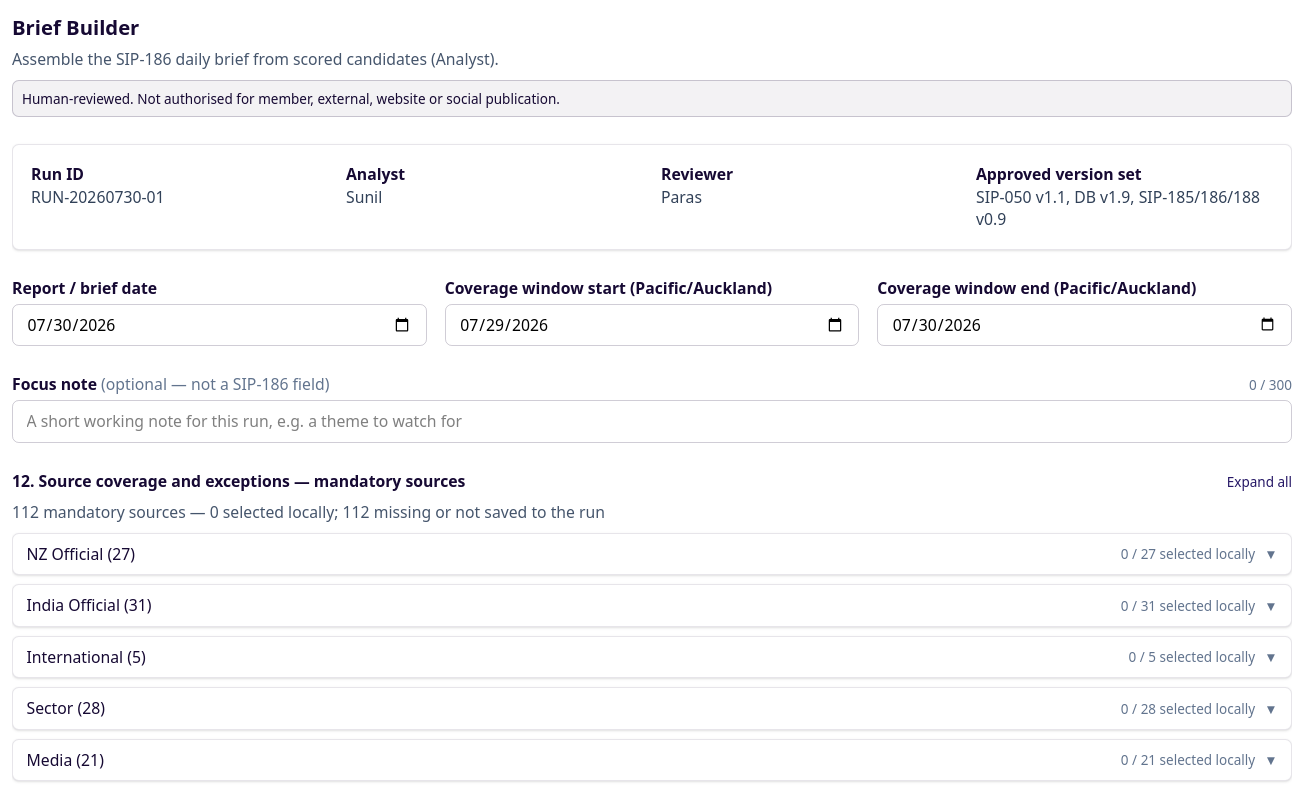
Test: BriefBuilderScreen › expands and collapses every category via the Expand all / Collapse all toggle
Click the button "Expand all": (1259, 482) [1227,473,1292,491]
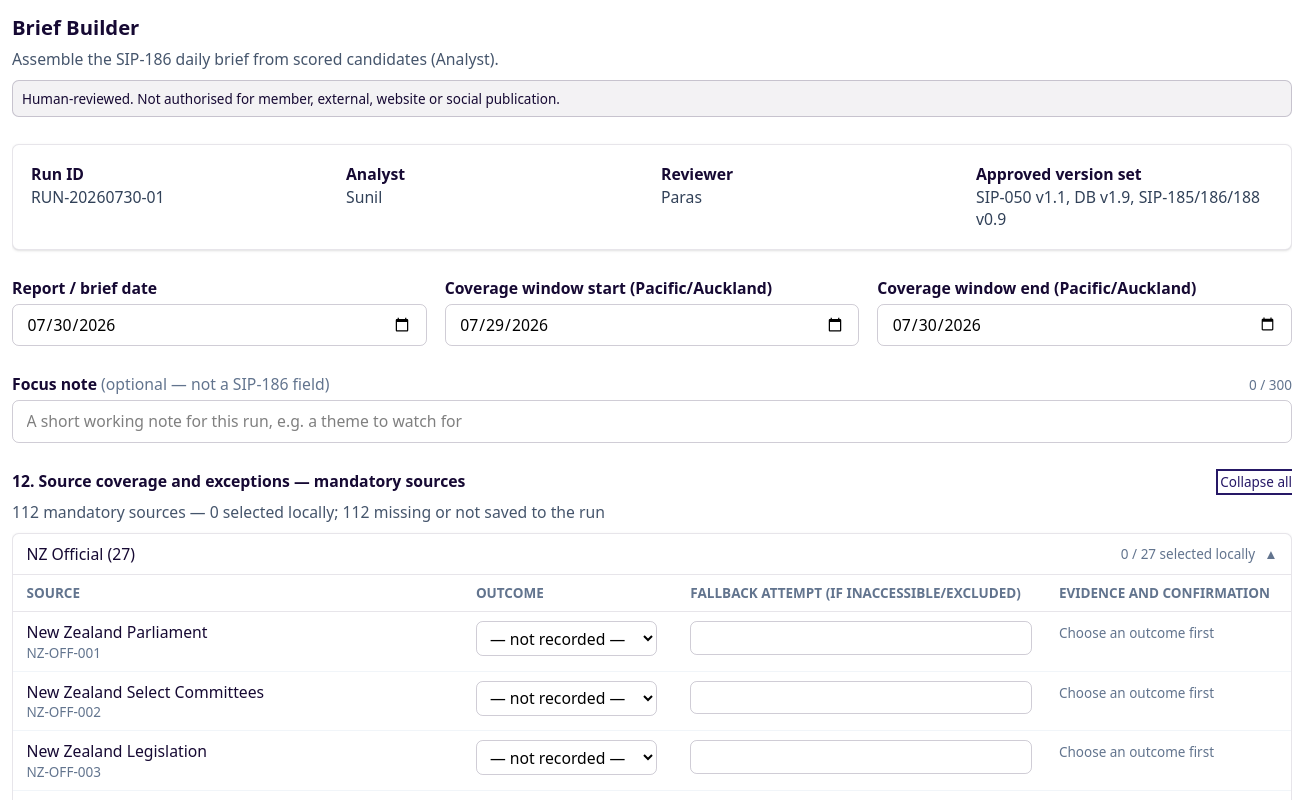
Check: the text "New Zealand Parliament" is shown, box [26,622,208,644]
Click the button "Collapse all": (1256, 482) [1220,473,1292,491]
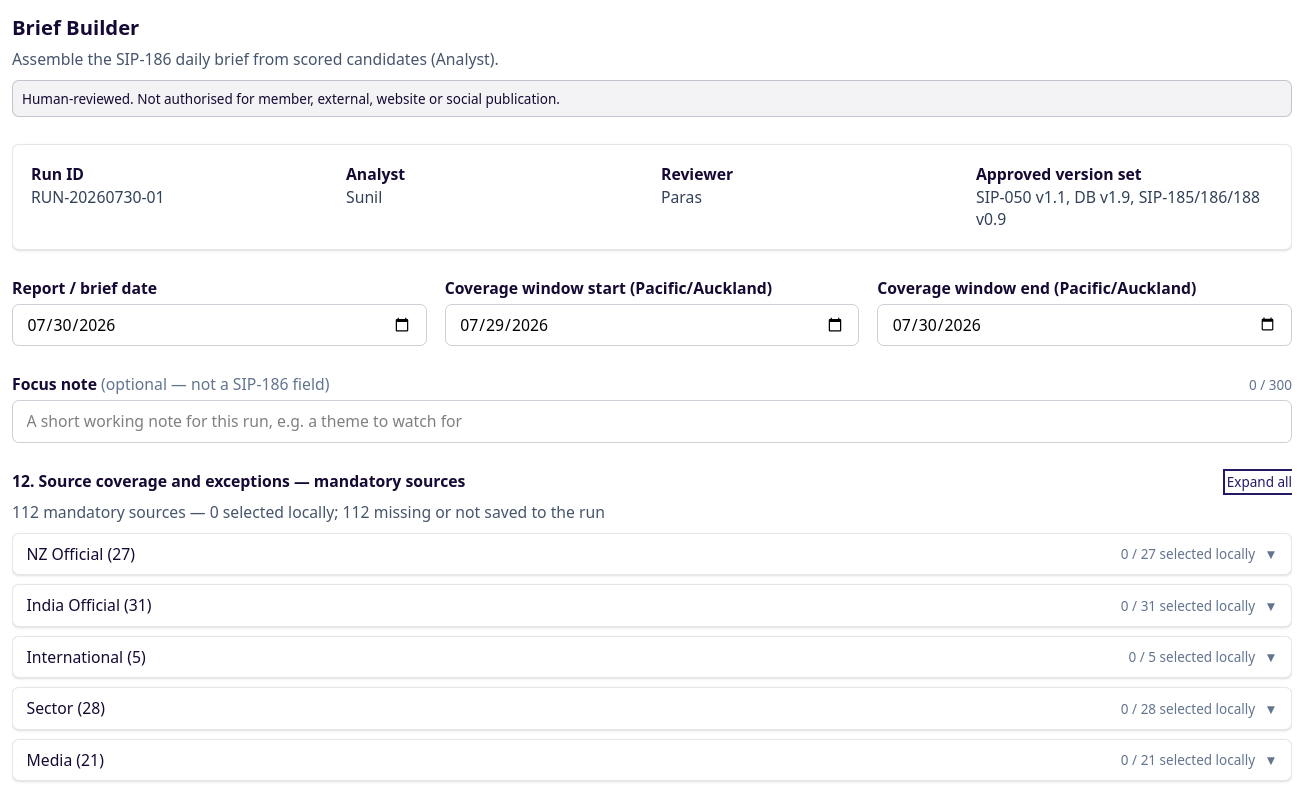
Check: the text "New Zealand Parliament" is gone
